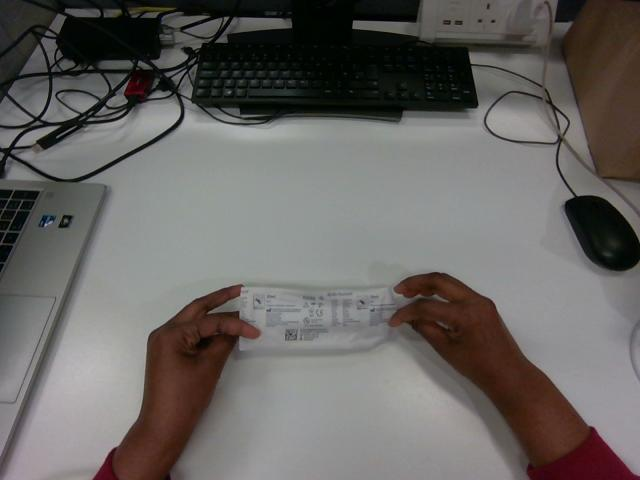syringe: (239, 287, 396, 350)
